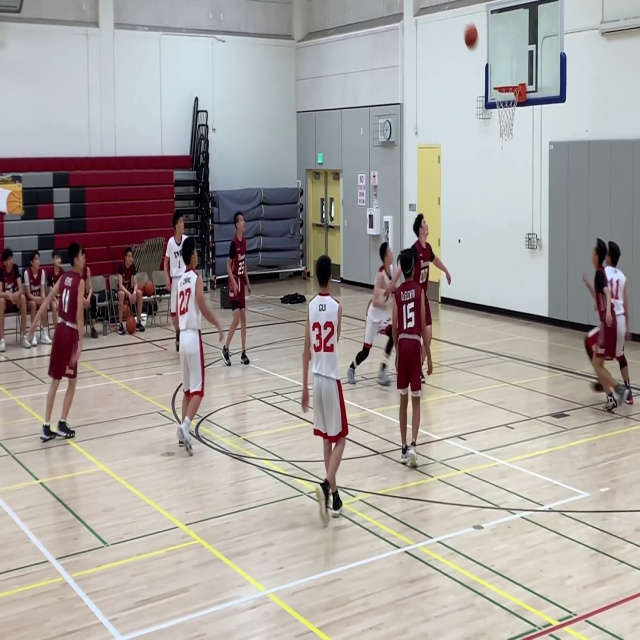Basketball: (464, 23, 478, 47), (125, 316, 136, 334), (143, 280, 154, 296)
